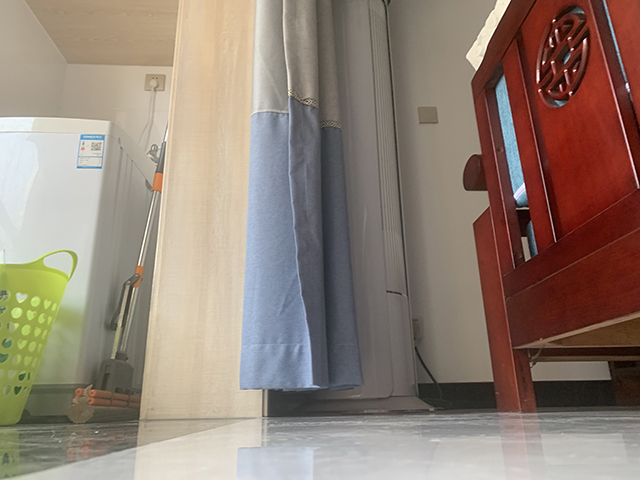curtain: (238, 1, 367, 393)
sofa: (462, 1, 639, 413)
wire: (413, 323, 454, 410)
